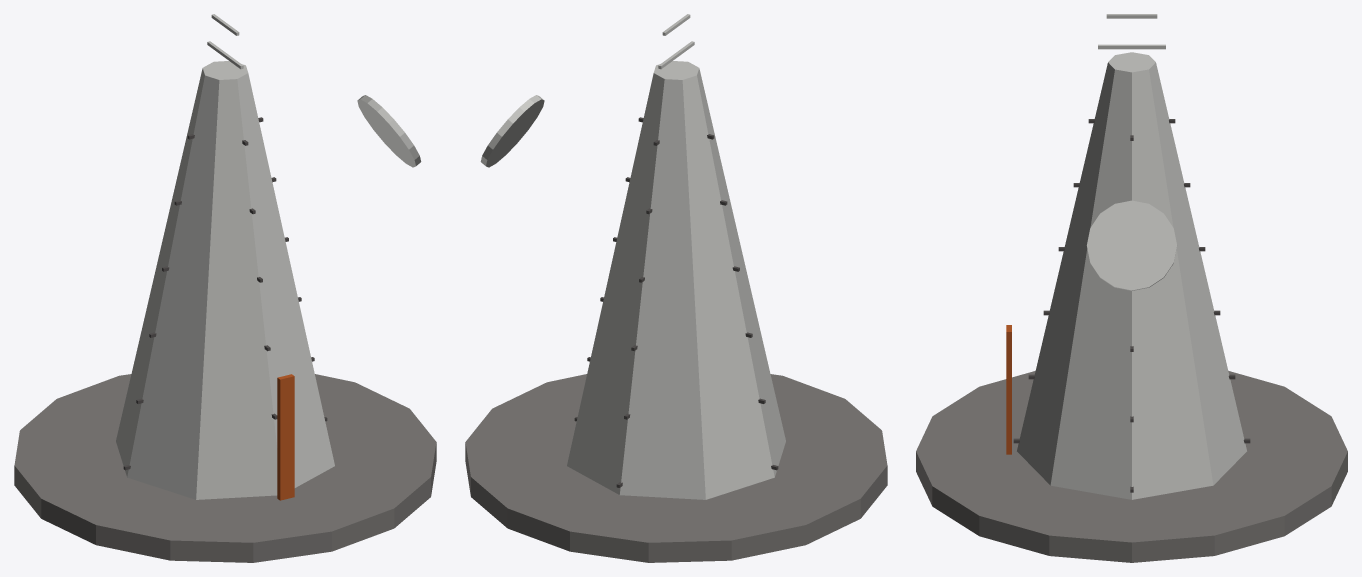
Rendered from radio_mast_2_kiln.glb.
The picture shows the model from 3 angles, left to right: view 1: azimuth 30°, elevation 25°; view 2: azimuth 150°, elevation 25°; view 3: azimuth 270°, elevation 25°; orthographic projection.
Visible parts, largest first — view 1: Cone, Cylinder, Cube.002, Cylinder.001; view 2: Cone, Cylinder, Cylinder.001; view 3: Cone, Cylinder, Cylinder.001, Cube.002.
Boxes of the visible parts, bbox=[...] form: Cone: bbox=[116, 61, 334, 499]; Cylinder: bbox=[14, 374, 436, 562]; Cube.002: bbox=[277, 374, 294, 500]; Cylinder.001: bbox=[357, 95, 421, 167]; Cone: bbox=[567, 61, 785, 499]; Cylinder: bbox=[465, 374, 887, 562]; Cylinder.001: bbox=[480, 95, 544, 167]; Cone: bbox=[1017, 52, 1246, 499]; Cylinder: bbox=[916, 371, 1347, 562]; Cylinder.001: bbox=[1086, 200, 1177, 290]; Cube.002: bbox=[1006, 325, 1011, 454].
Bounding box in the file's own units: 15.36 × 17.86 × 15.3.
